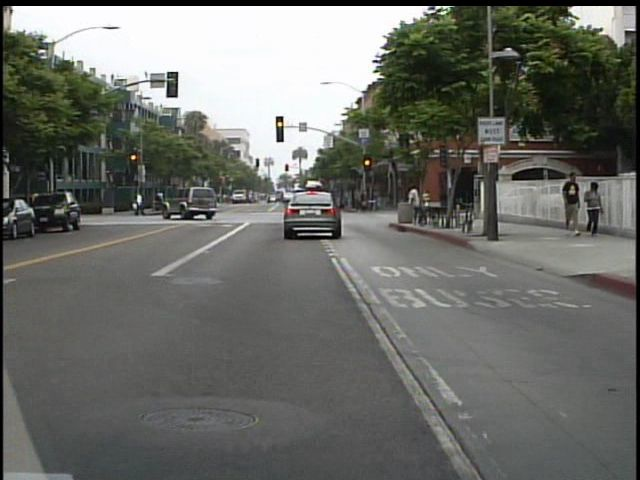person: (560, 166, 587, 237), (582, 179, 607, 242), (408, 180, 428, 226), (136, 187, 153, 220)
